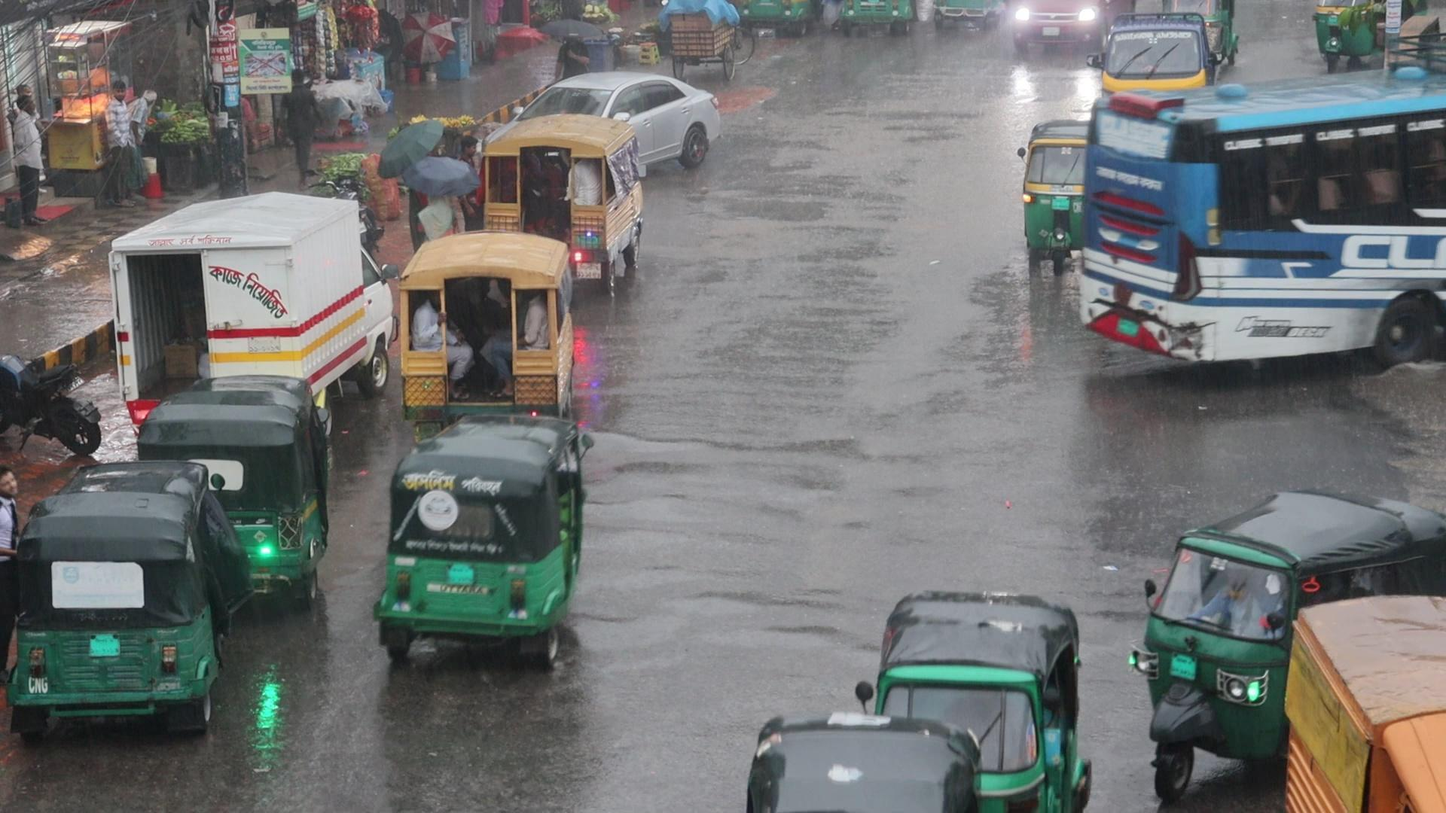Bus: (1075, 76, 1446, 372)
Truck: (393, 227, 575, 418), (481, 110, 644, 237)
